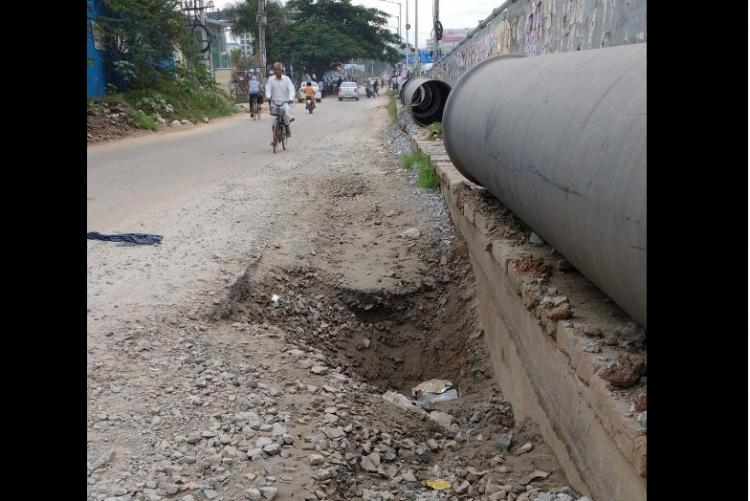pothole: (242, 228, 501, 391)
